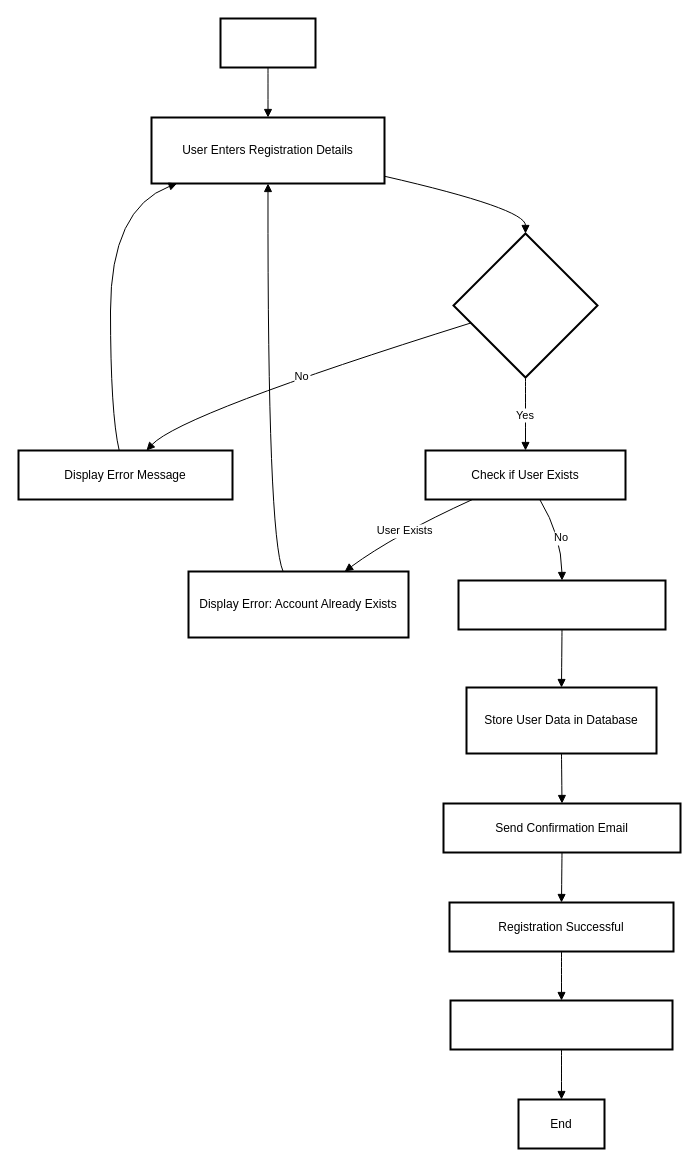
Some shapes in this 698 by 1166 pixel diagram are drawn without their labels. Each missing label, with the centre of its shape:
"Create User Account" belongs at point (561, 604).
"Redirect to Login Page" belongs at point (561, 1024).
"Start" belongs at point (267, 42).
"Valid Details?" belongs at point (525, 305).
